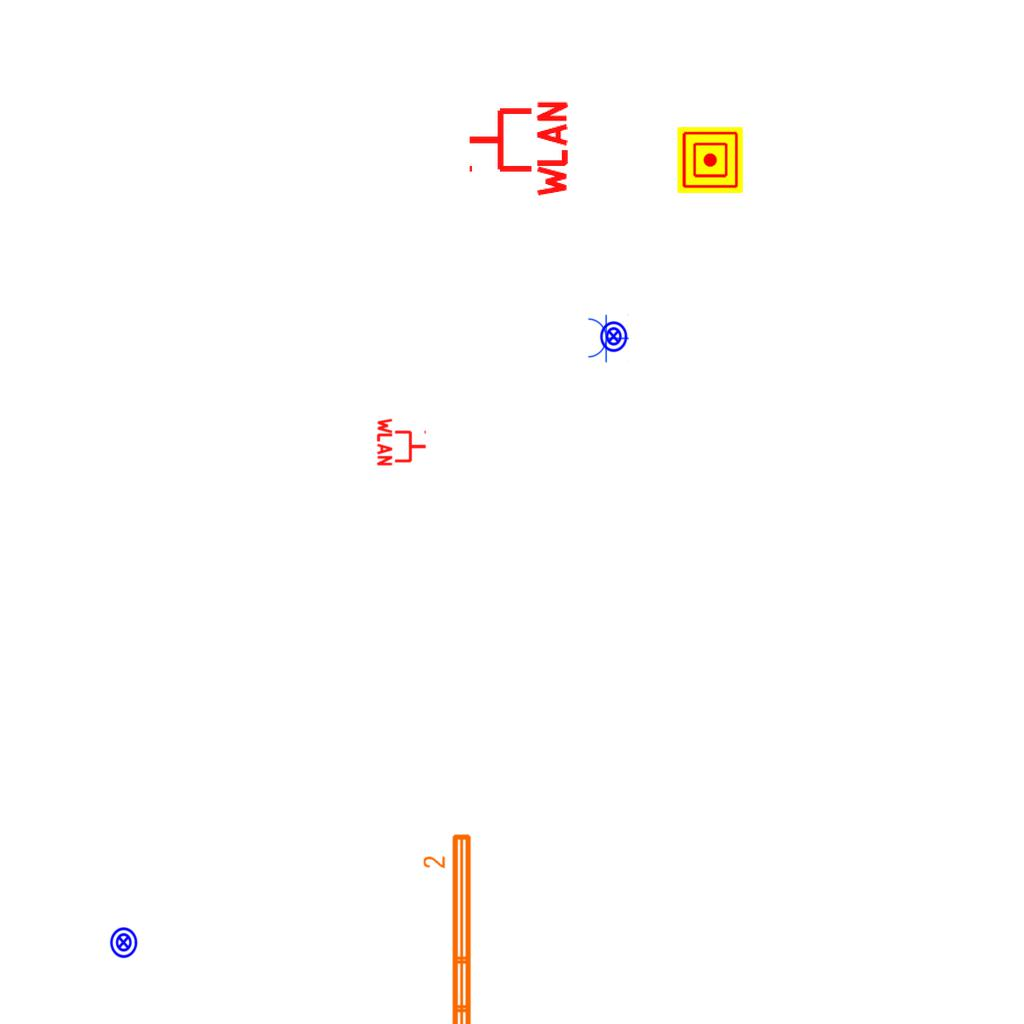Ambulanz_Pendelleuchte_LED: (421, 830, 477, 1024)
NAM-Nichtautomatischer_Melder: (677, 127, 743, 193)
Schukosteckdose_einfach: (586, 313, 629, 363)
Taster_beleuchtet: (107, 926, 140, 959), (597, 320, 630, 353)
WLAN: (465, 97, 570, 201), (376, 416, 428, 468)
